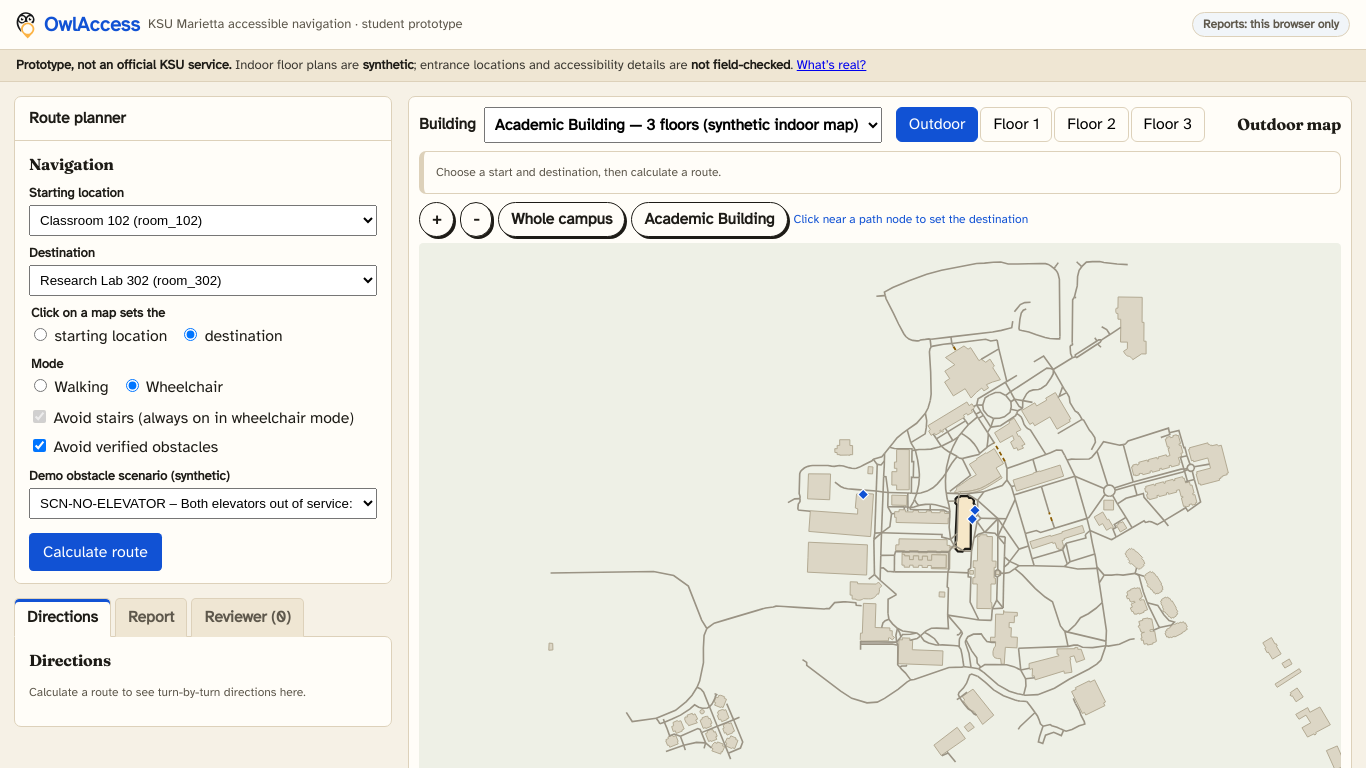
NavigationApp component behaviour (jsdom, not a real browser) › shows a clear NO_ACCESSIBLE_ROUTE message when both elevators are out (verified obstacles on)
Click the button "Calculate route" at (95, 552), box 29,533 -> 162,571
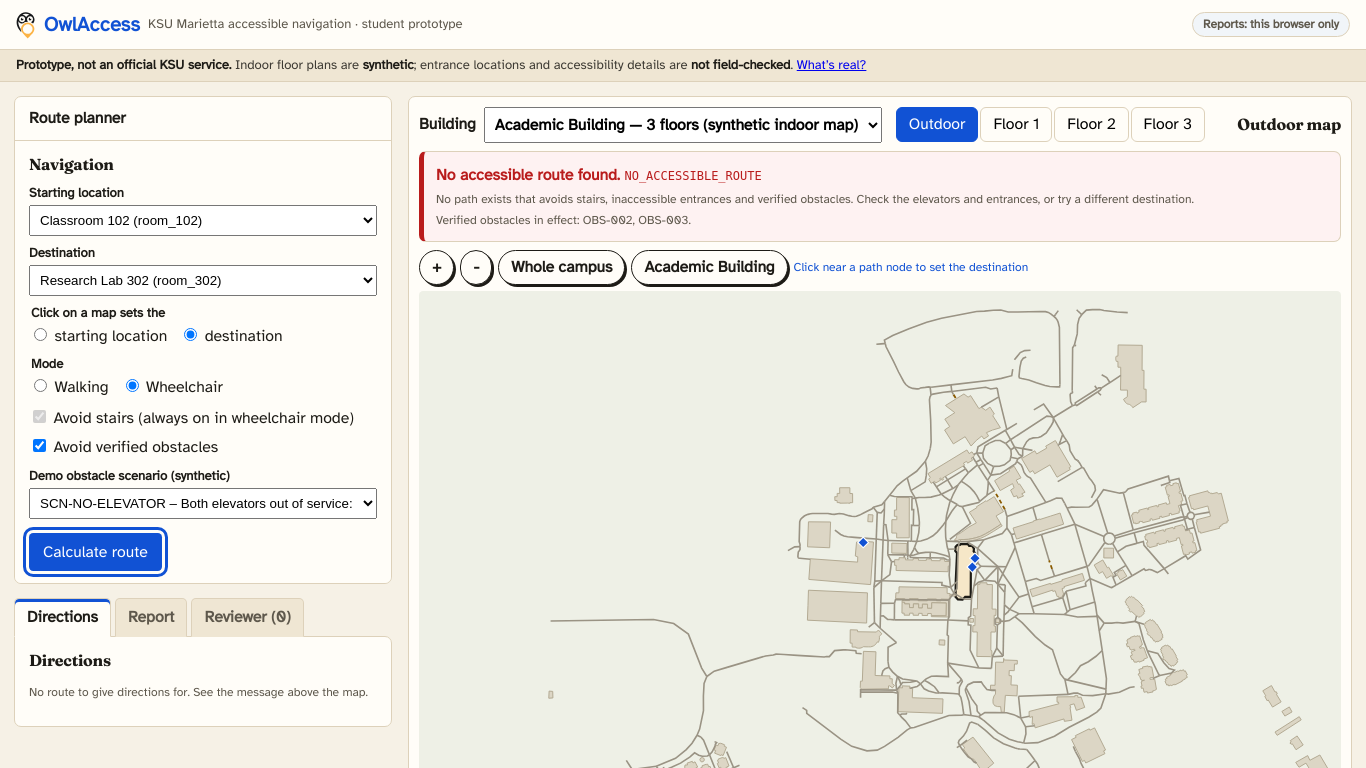
Now the message named "Route" shows "No accessible route found", box 436,165 -> 620,185
